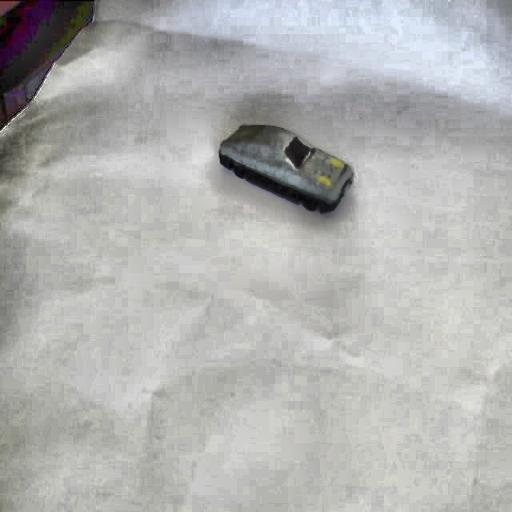normal_car: (216, 118, 356, 216)
